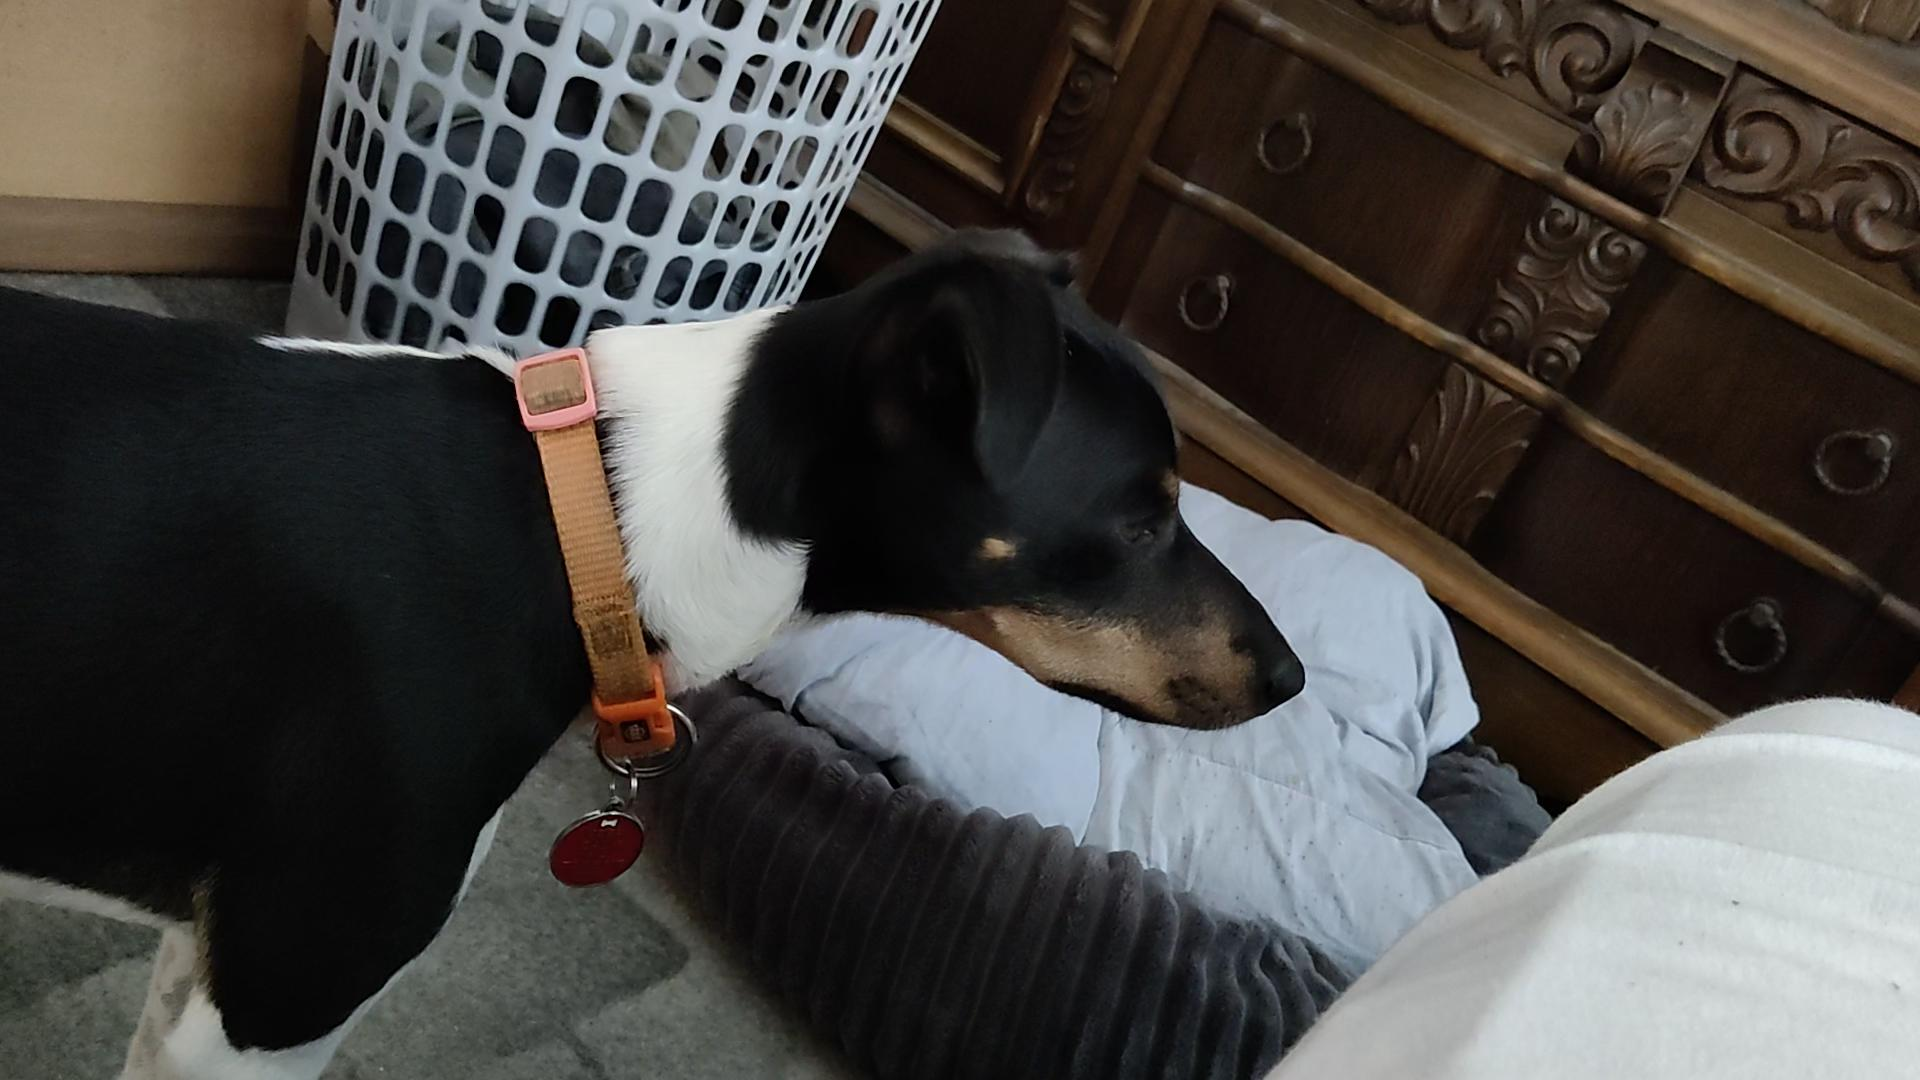Dog: (0, 211, 1313, 1079)
